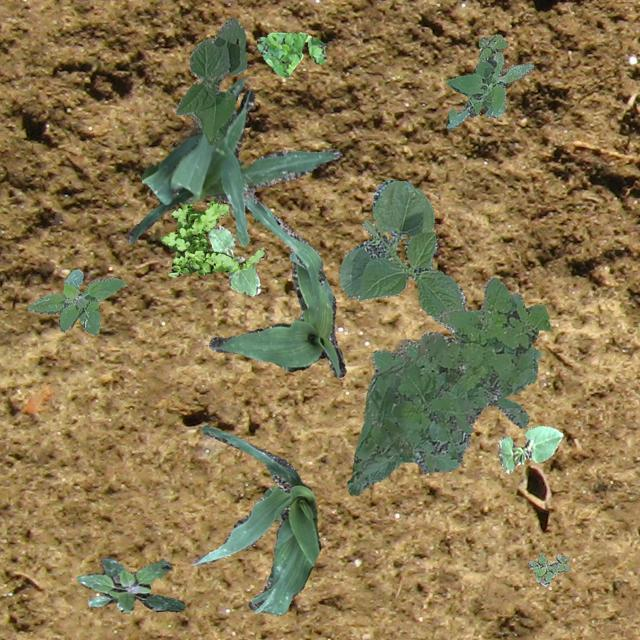crop: (124, 77, 340, 245), (208, 192, 346, 376), (190, 424, 320, 614), (338, 178, 464, 336), (174, 18, 246, 144), (207, 224, 260, 294), (498, 426, 562, 472)
weed: (347, 276, 550, 494), (444, 34, 532, 128), (160, 198, 264, 276), (26, 268, 124, 334), (76, 556, 184, 612), (256, 31, 326, 76), (526, 552, 568, 586), (453, 330, 462, 340)
